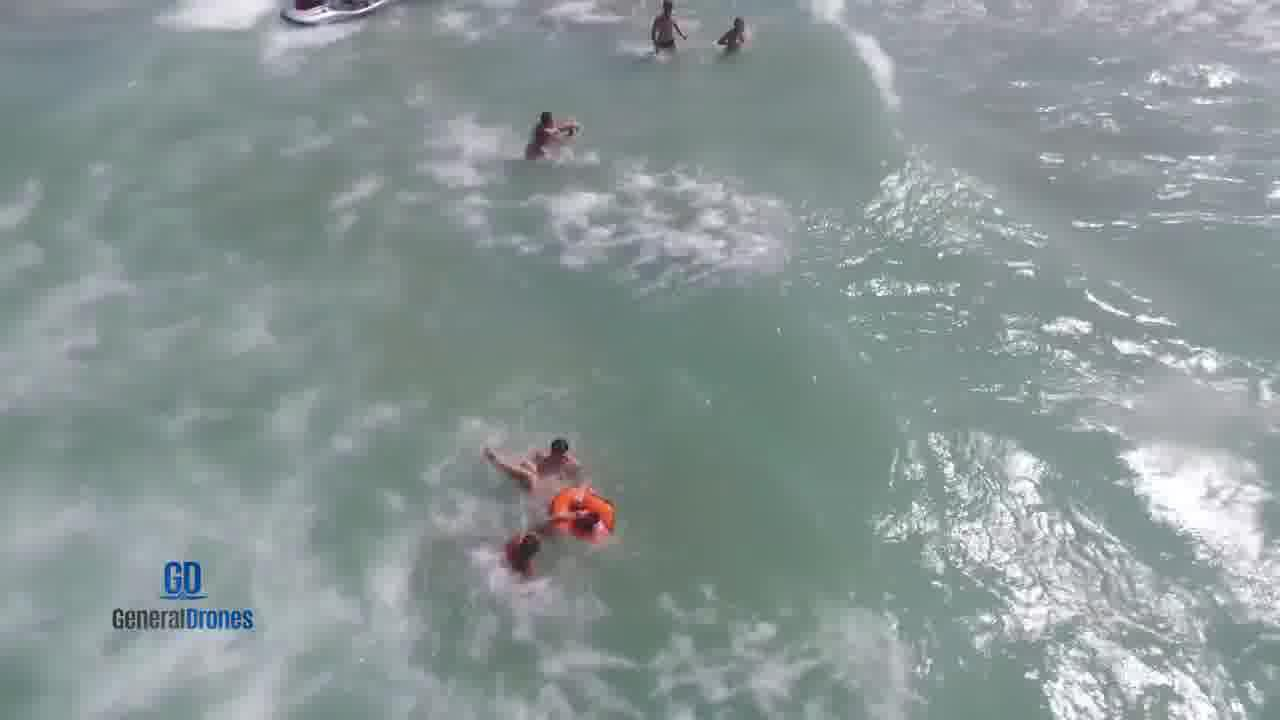human: (488, 528, 551, 579), (527, 101, 571, 165), (628, 11, 691, 49), (714, 16, 770, 54), (562, 494, 613, 528), (534, 430, 575, 464)
